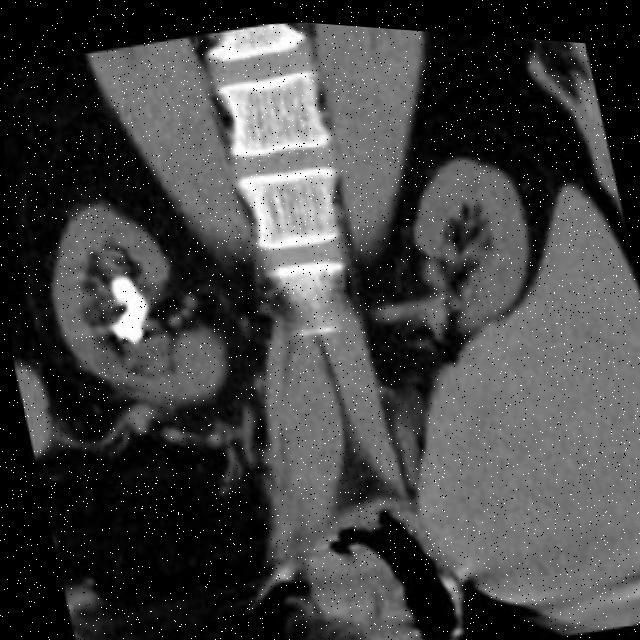Tas_Var: (93, 264, 155, 353)
